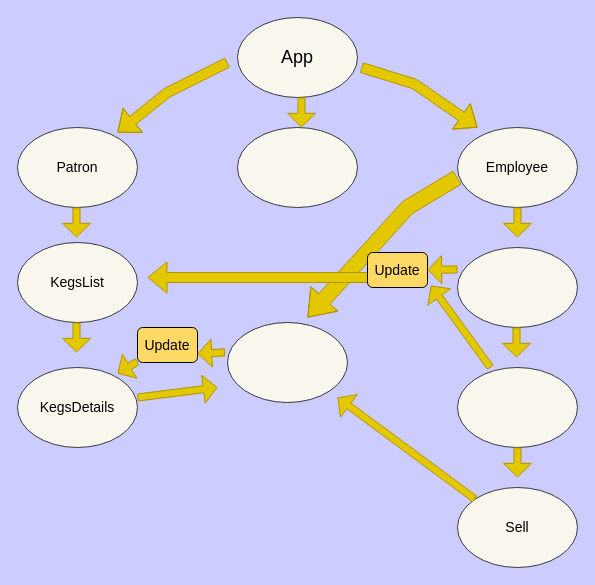
Some shapes in this 595 by 585 pixel diagram are drawn without their labels. Here are the shapes that lost their labels. From the top down, the box of each, then its label:
(236, 126, 358, 208): Header
(456, 246, 578, 328): Form
(226, 322, 348, 402): Pints
(456, 366, 578, 448): Edit
